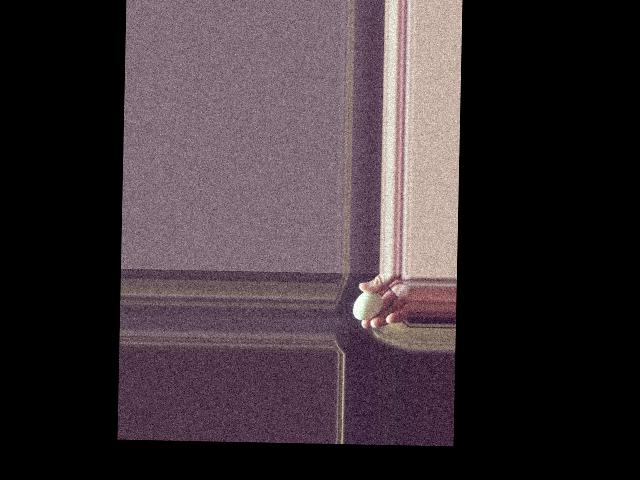egg: (353, 291, 383, 319)
